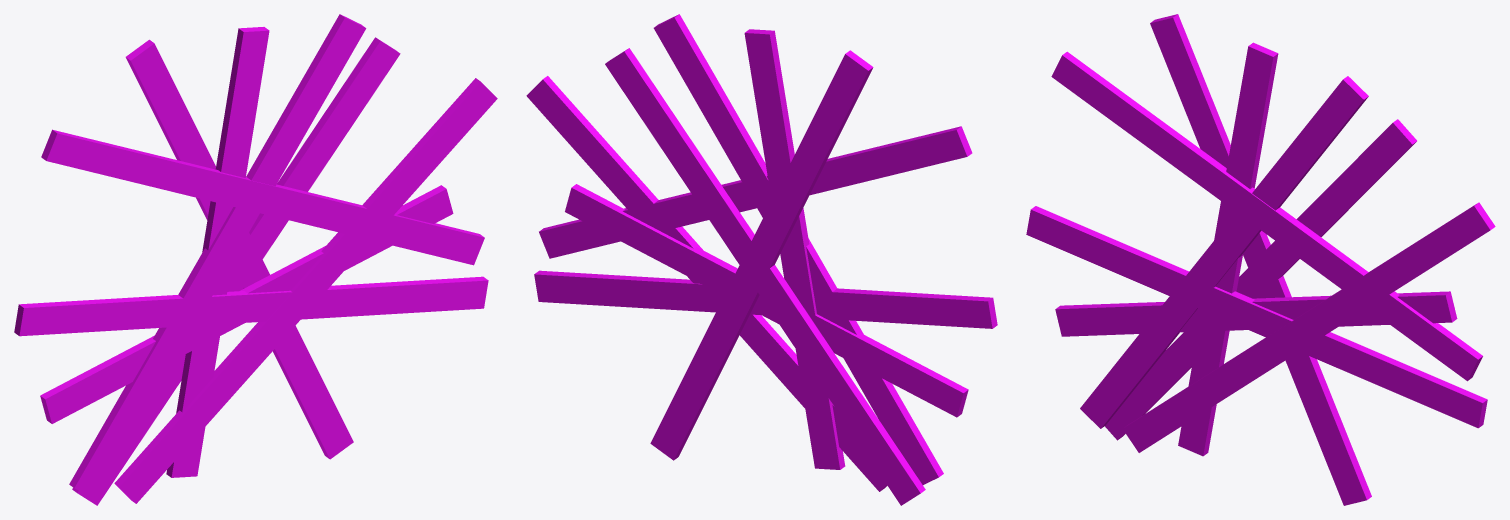
File: MeDestructibleShotgunFracture.FBX
3 renders of one model, left to right at view 1: azimuth 30°, elevation 25°; view 2: azimuth 150°, elevation 25°; view 3: azimuth 330°, elevation 25°, orthographic. The views are drawn at different scales.
Parts seen in each view (by area): view 1: DestructibleShotgunPlaceHolder_Part_8, DestructibleShotgunPlaceHolder_Part_7, DestructibleShotgunPlaceHolder_Part_9, DestructibleShotgunPlaceHolder_Part_10, DestructibleShotgunPlaceHolder_Part_6, DestructibleShotgunPlaceHolder_Part_4, DestructibleShotgunPlaceHolder_Part_1, DestructibleShotgunPlaceHolder_Part_3, DestructibleShotgunPlaceHolder_Part_2, DestructibleShotgunPlaceHolder_Part_5; view 2: DestructibleShotgunPlaceHolder_Part_8, DestructibleShotgunPlaceHolder_Part_7, DestructibleShotgunPlaceHolder_Part_9, DestructibleShotgunPlaceHolder_Part_10, DestructibleShotgunPlaceHolder_Part_6, DestructibleShotgunPlaceHolder_Part_4, DestructibleShotgunPlaceHolder_Part_1, DestructibleShotgunPlaceHolder_Part_3, DestructibleShotgunPlaceHolder_Part_2, DestructibleShotgunPlaceHolder_Part_5; view 3: DestructibleShotgunPlaceHolder_Part_8, DestructibleShotgunPlaceHolder_Part_7, DestructibleShotgunPlaceHolder_Part_9, DestructibleShotgunPlaceHolder_Part_6, DestructibleShotgunPlaceHolder_Part_10, DestructibleShotgunPlaceHolder_Part_1, DestructibleShotgunPlaceHolder_Part_4, DestructibleShotgunPlaceHolder_Part_5, DestructibleShotgunPlaceHolder_Part_3, DestructibleShotgunPlaceHolder_Part_2.
Part boxes in pixels (left/top/right/bottom): DestructibleShotgunPlaceHolder_Part_8: left=45, top=325, right=244, bottom=505; DestructibleShotgunPlaceHolder_Part_7: left=170, top=105, right=312, bottom=297; DestructibleShotgunPlaceHolder_Part_9: left=179, top=223, right=300, bottom=381; DestructibleShotgunPlaceHolder_Part_10: left=226, top=14, right=400, bottom=134; DestructibleShotgunPlaceHolder_Part_6: left=288, top=238, right=402, bottom=459; DestructibleShotgunPlaceHolder_Part_4: left=14, top=294, right=185, bottom=416; DestructibleShotgunPlaceHolder_Part_1: left=41, top=39, right=192, bottom=190; DestructibleShotgunPlaceHolder_Part_3: left=344, top=78, right=497, bottom=244; DestructibleShotgunPlaceHolder_Part_2: left=301, top=127, right=407, bottom=249; DestructibleShotgunPlaceHolder_Part_5: left=399, top=199, right=488, bottom=313; DestructibleShotgunPlaceHolder_Part_8: left=773, top=318, right=963, bottom=505; DestructibleShotgunPlaceHolder_Part_7: left=690, top=105, right=846, bottom=288; DestructibleShotgunPlaceHolder_Part_9: left=707, top=224, right=834, bottom=387; DestructibleShotgunPlaceHolder_Part_10: left=605, top=14, right=786, bottom=143; DestructibleShotgunPlaceHolder_Part_6: left=617, top=232, right=718, bottom=460; DestructibleShotgunPlaceHolder_Part_4: left=831, top=287, right=997, bottom=409; DestructibleShotgunPlaceHolder_Part_1: left=808, top=50, right=972, bottom=186; DestructibleShotgunPlaceHolder_Part_3: left=526, top=76, right=659, bottom=238; DestructibleShotgunPlaceHolder_Part_2: left=613, top=135, right=708, bottom=246; DestructibleShotgunPlaceHolder_Part_5: left=534, top=198, right=621, bottom=306; DestructibleShotgunPlaceHolder_Part_8: left=1060, top=303, right=1244, bottom=456; DestructibleShotgunPlaceHolder_Part_7: left=1171, top=107, right=1326, bottom=275; DestructibleShotgunPlaceHolder_Part_9: left=1187, top=255, right=1309, bottom=410; DestructibleShotgunPlaceHolder_Part_6: left=1297, top=291, right=1404, bottom=505; DestructibleShotgunPlaceHolder_Part_10: left=1236, top=42, right=1416, bottom=188; DestructibleShotgunPlaceHolder_Part_1: left=1051, top=14, right=1215, bottom=164; DestructibleShotgunPlaceHolder_Part_4: left=1026, top=206, right=1188, bottom=328; DestructibleShotgunPlaceHolder_Part_5: left=1398, top=303, right=1487, bottom=428; DestructibleShotgunPlaceHolder_Part_3: left=1357, top=181, right=1495, bottom=329; DestructibleShotgunPlaceHolder_Part_2: left=1302, top=184, right=1402, bottom=333.
Bounding box in the file's own units: 370 × 340 × 18.25.
